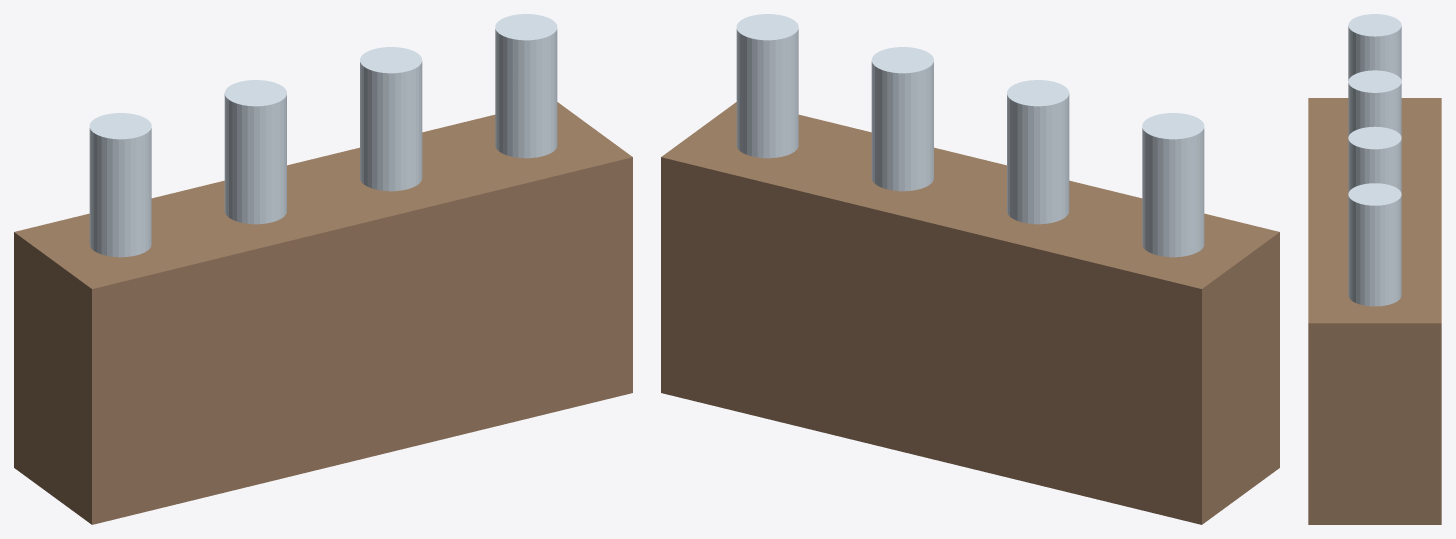
Rendered from stojak_chemia.fbx.
3 renders of one model, left to right at view 1: azimuth 30°, elevation 25°; view 2: azimuth 150°, elevation 25°; view 3: azimuth 270°, elevation 25°, orthographic. The views are drawn at different scales.
Parts seen in each view (by area): view 1: Cube; view 2: Cube; view 3: Cube.
Part boxes in pixels (left/top/right/bottom): Cube: left=14, top=14, right=632, bottom=524; Cube: left=661, top=14, right=1279, bottom=524; Cube: left=1308, top=14, right=1441, bottom=524.
Bounding box in the file's own units: 2.4 × 1.5 × 0.6.
